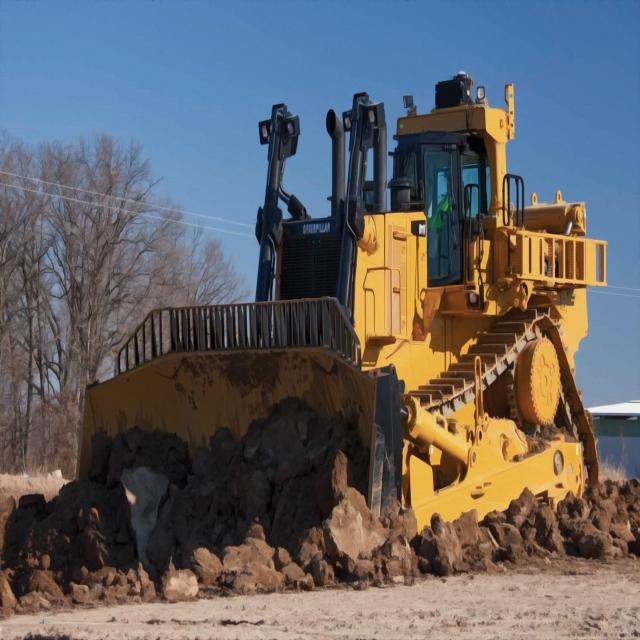Bulldozer: (82, 68, 614, 558)
